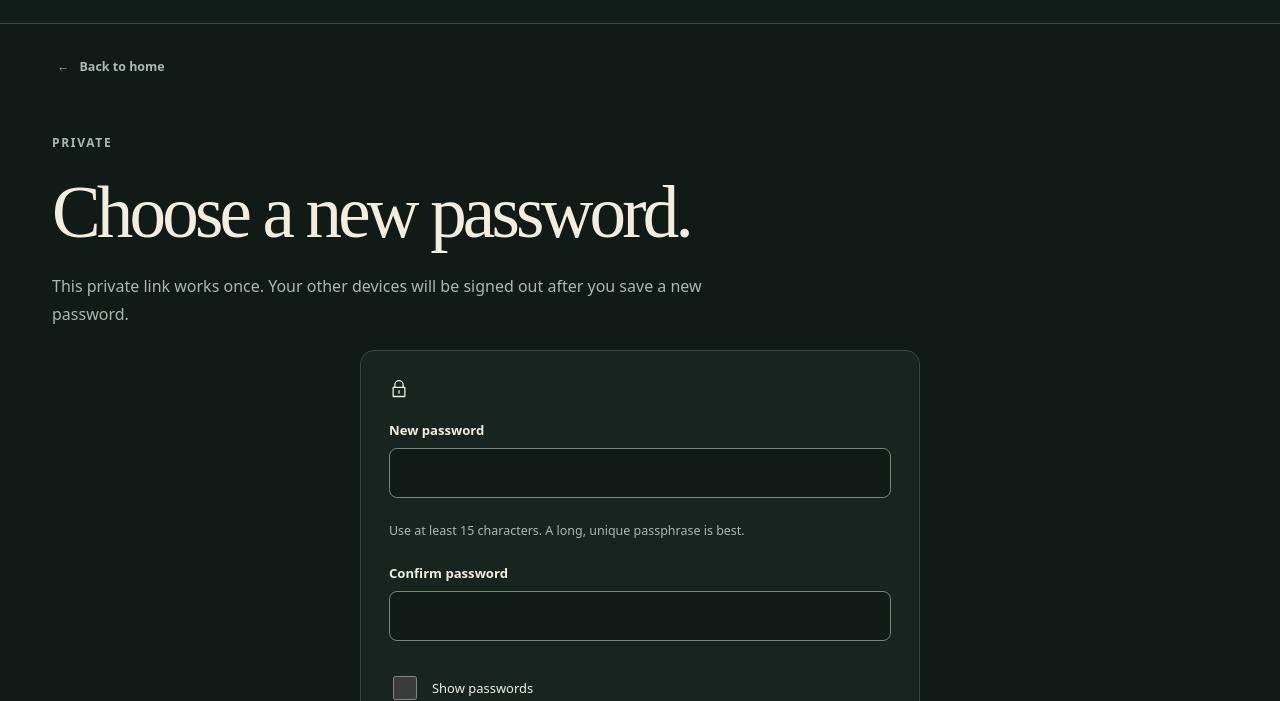
removes reset tokens from the address bar and waits for a new password before using them
Expected: the heading "Choose a new password." is shown, 52,172 -> 690,253
In the password field labelled "New password": coordinates (640, 473) 389,448 -> 891,498, type "new private passphrase"
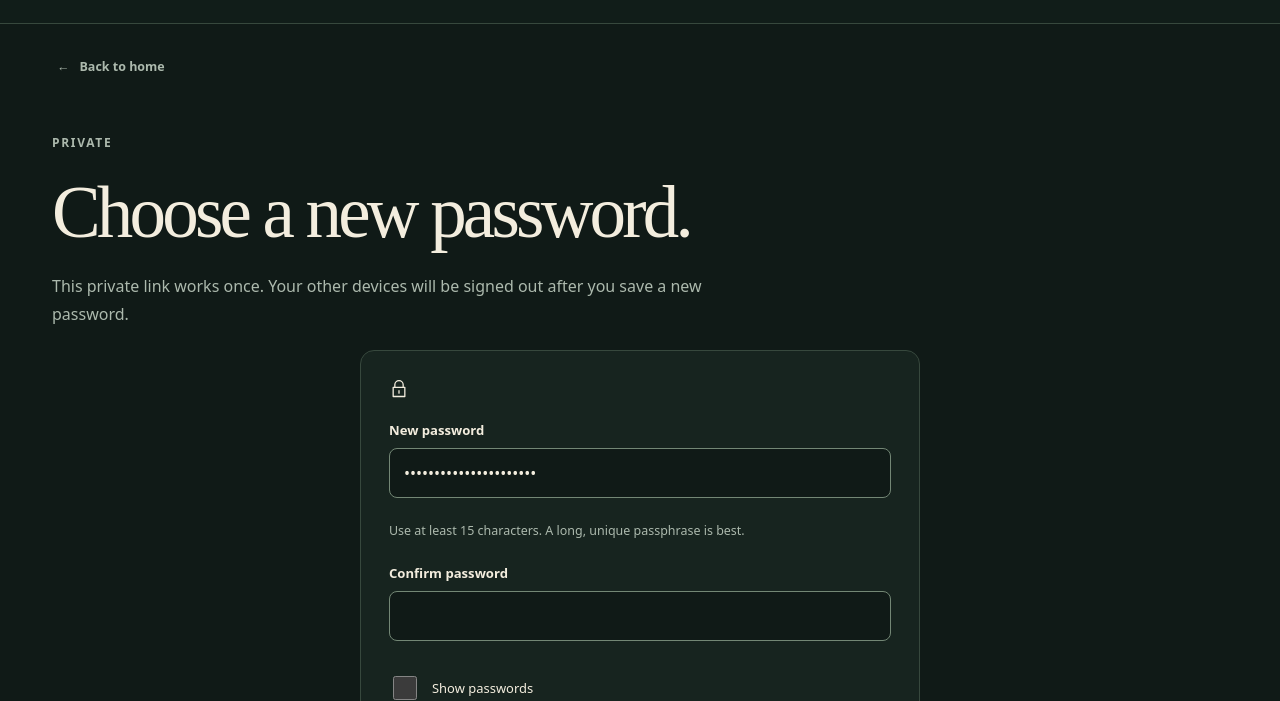
In the password field labelled "Confirm password": coordinates (640, 616) 389,591 -> 891,641, type "new private passphrase"
(page scrolled)
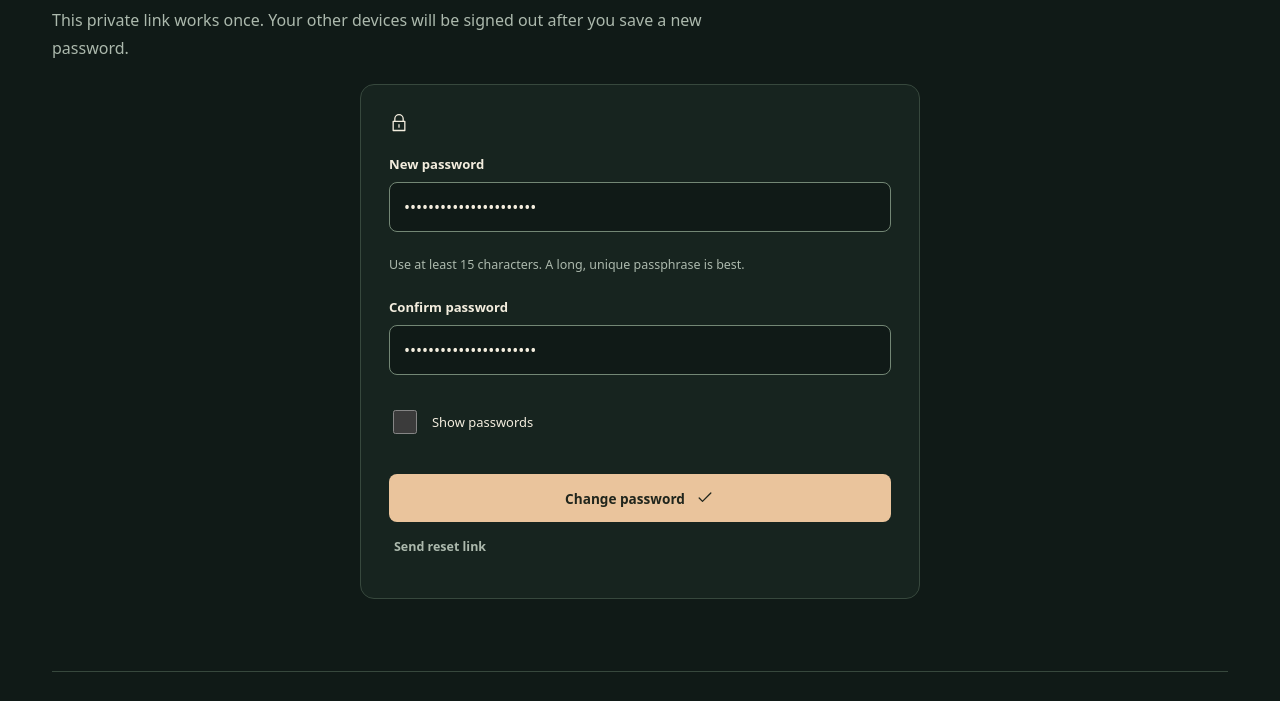
Submit the form labelled "New password", box 389,133 -> 891,522
(page scrolled)
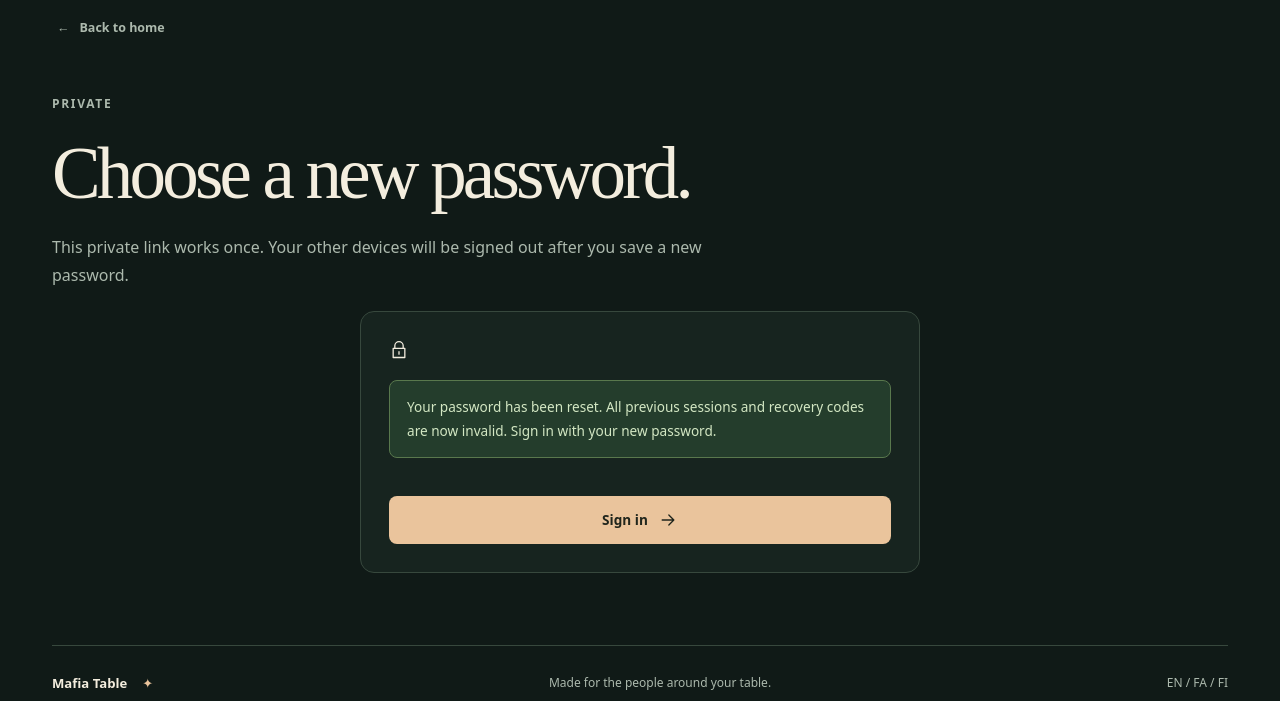
Now the text "Your password has been reset" is shown, box 407,397 -> 864,440
Click the button "Sign in": coordinates (640, 520) 389,496 -> 891,544
(page scrolled)
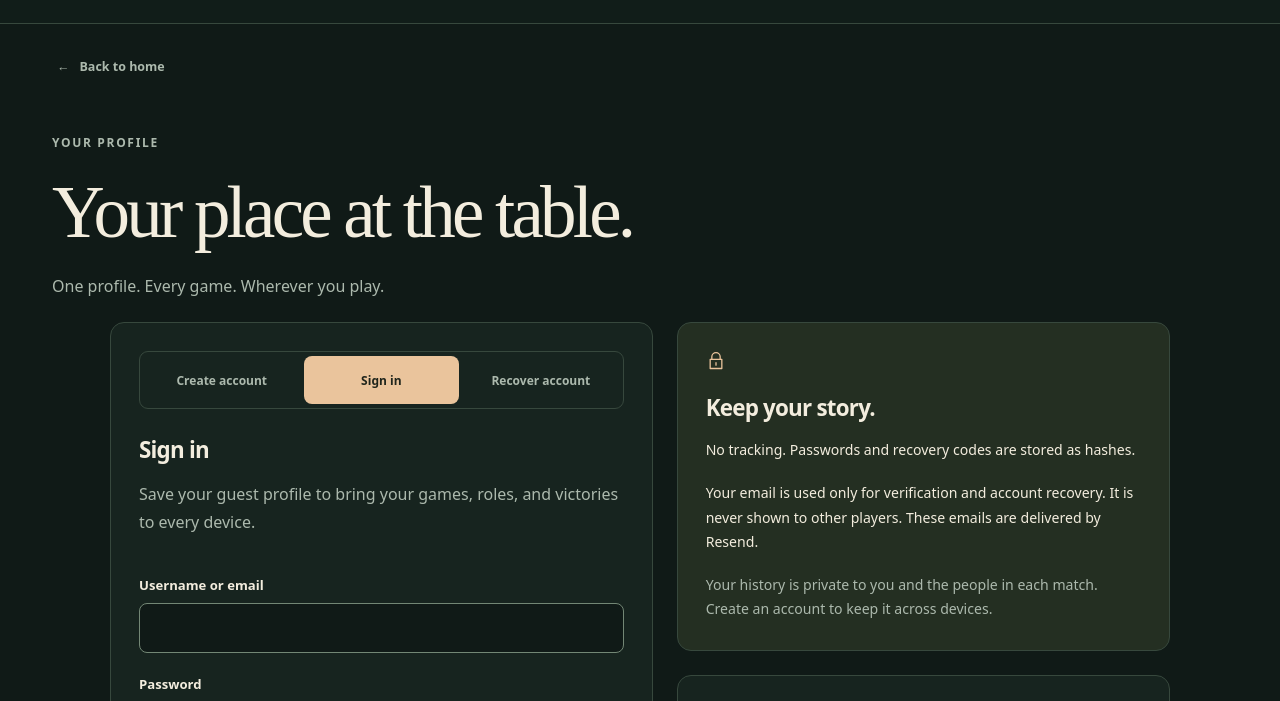
Now the field labelled "Username or email" is shown, box 139,603 -> 624,653
